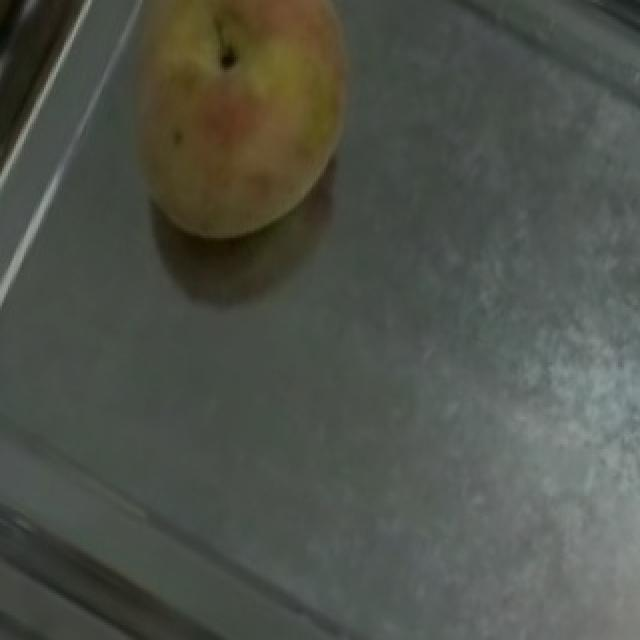Fruit: (72, 0, 396, 288)
